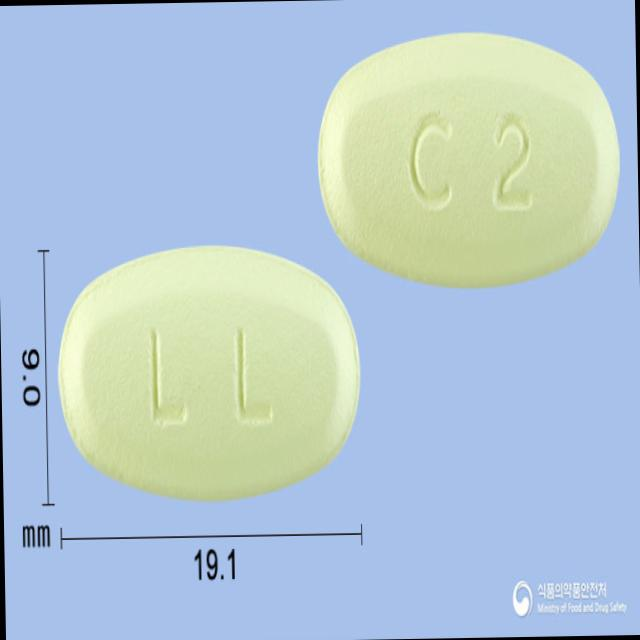Clratomin: (56, 240, 364, 504), (316, 23, 624, 286)
